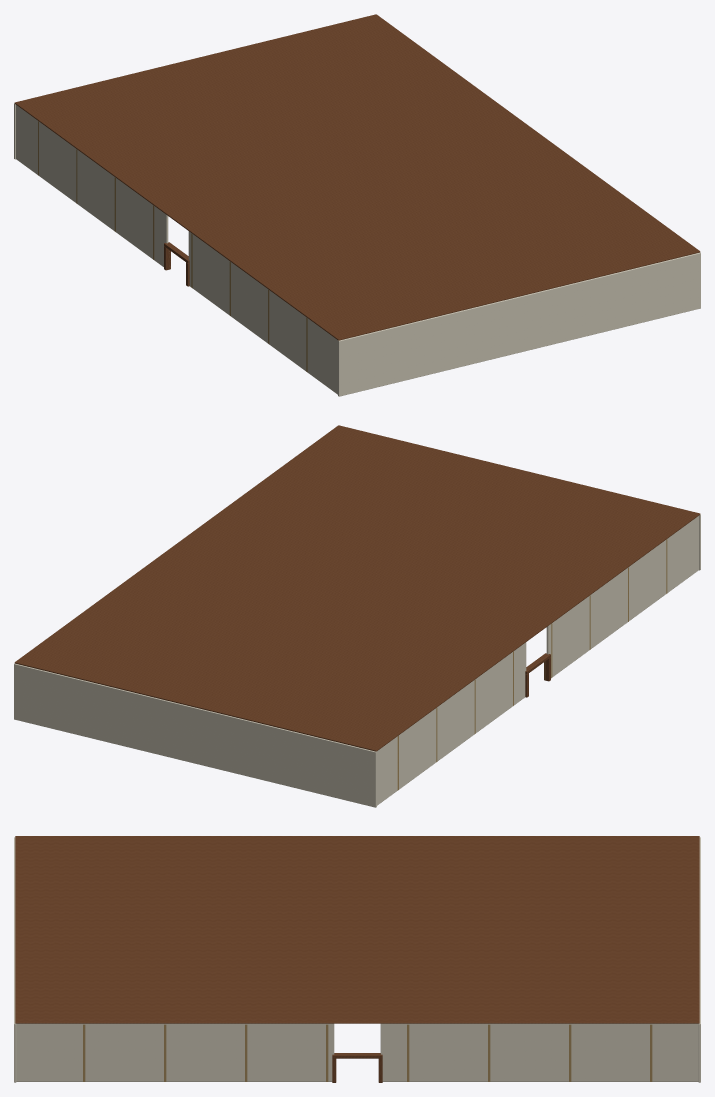
The model's file is SOL_D06_directory_06_source001.glb.
3 renders of one model, top to bottom at view 1: azimuth 30°, elevation 25°; view 2: azimuth 150°, elevation 25°; view 3: azimuth 270°, elevation 25°, orthographic. The views are drawn at different scales.
Visible parts, largest first — view 1: E_ceiling, E_outer_north, E_outer_west0, E_outer_west1; view 2: E_ceiling, E_outer_south, E_outer_west1, E_outer_west0; view 3: E_ceiling, E_outer_east0, E_outer_east1, E_outer_south, E_outer_north.
Part boxes in pixels (x1=…): E_ceiling: x1=14, y1=14, x2=700, y2=340; E_outer_north: x1=338, y1=252, x2=700, y2=396; E_outer_west0: x1=16, y1=105, x2=168, y2=266; E_outer_west1: x1=188, y1=231, x2=337, y2=394; E_ceiling: x1=14, y1=425, x2=700, y2=751; E_outer_south: x1=14, y1=663, x2=376, y2=807; E_outer_west1: x1=546, y1=516, x2=698, y2=677; E_outer_west0: x1=377, y1=642, x2=526, y2=805; E_ceiling: x1=15, y1=836, x2=699, y2=1023; E_outer_east0: x1=380, y1=1023, x2=698, y2=1081; E_outer_east1: x1=16, y1=1023, x2=334, y2=1081; E_outer_south: x1=698, y1=837, x2=700, y2=1082; E_outer_north: x1=14, y1=837, x2=16, y2=1082.
Bounding box in the file's own units: 43.75 × 6.54 × 67.84.
Materials: 27 (27 with a texture image).
